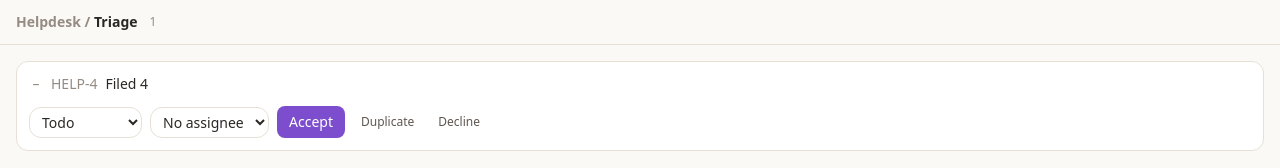
Test: TriagePage › accepts an issue into the chosen status with an assignee
Step 1. Select "In Progress" in the dropdown named "Status: HELP-4" → (86, 122), box [29, 106, 142, 138]
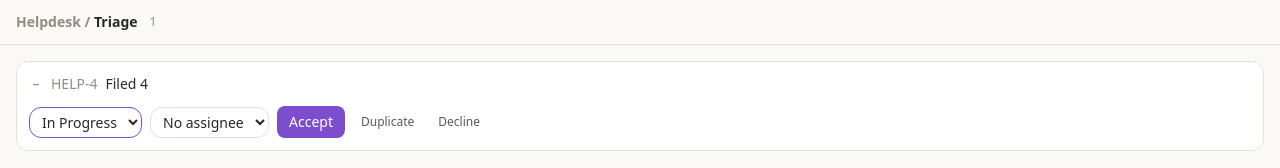
Step 2. Select "Ann Lee" in the dropdown named "Assignee: HELP-4" → (210, 122), box [150, 106, 269, 138]
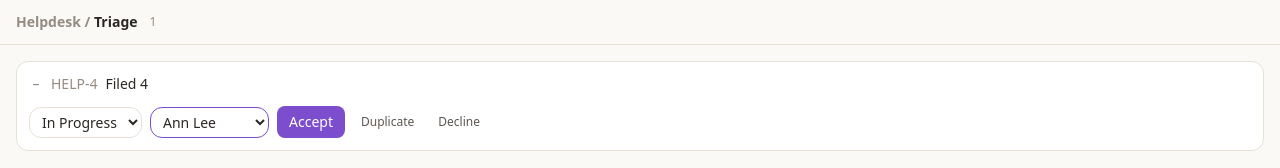
Step 3. Click the button "Accept" → (311, 122), box [277, 106, 345, 138]
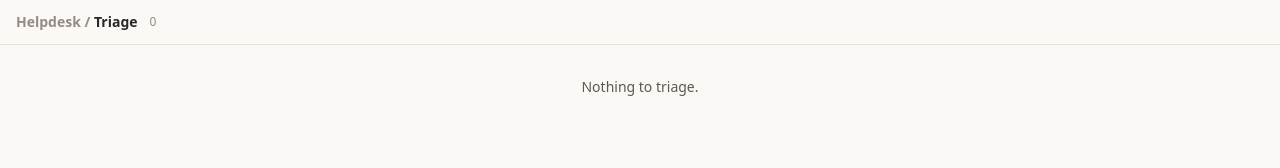
Result: the text "Nothing to triage." is shown at [582, 77, 699, 96]
